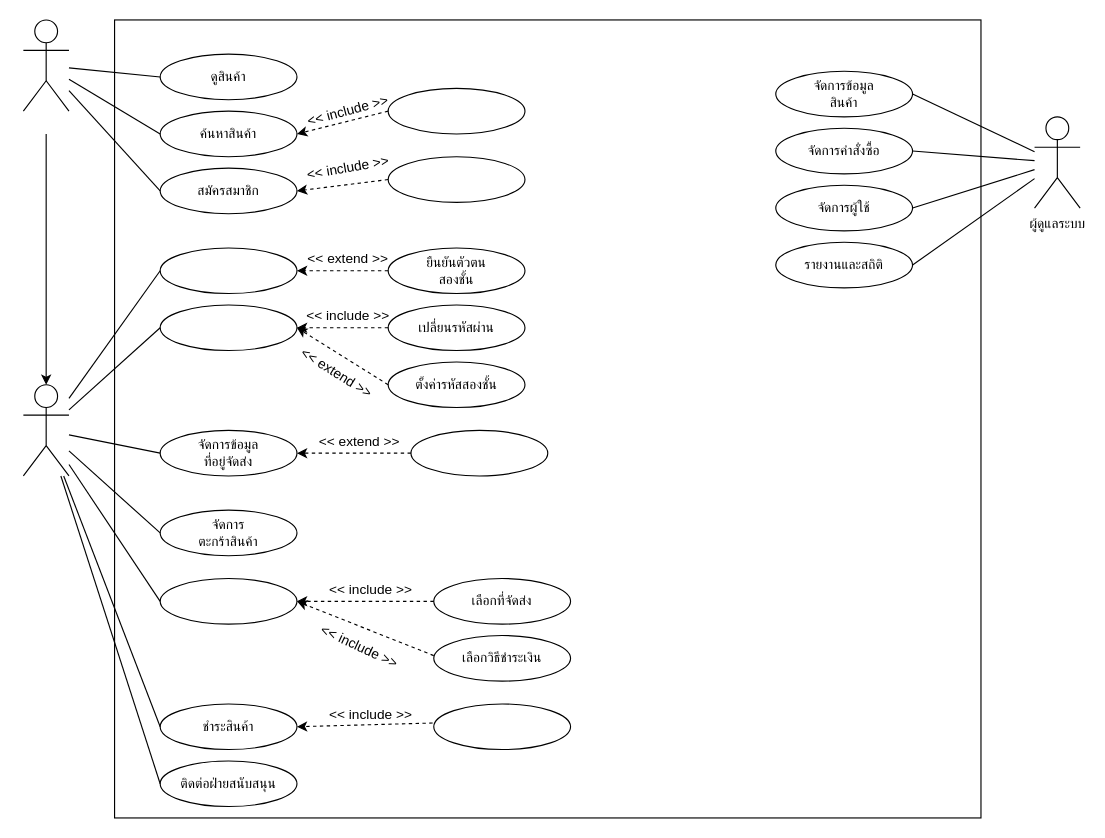
Some shapes in this 1105 by 838 pixel diagram are drawn without their labels. The centre of each missing label's shape, as x and y in pixels:
กรองรายการ สินค้า: the point at 456,110
จัดการข้อมูลผู้ใช้: the point at 228,327
ดูสถานะ การจัดส่ง: the point at 502,726
ผู้ใช้ทั่วไป: the point at 45,65
ผู้ใช้สมาชิก: the point at 45,430
ยืนยันตัวตน: the point at 456,179
สั่งซื้อสินค้า: the point at 228,600
เข้าสู่ระบบ: the point at 228,270
เลือกผ่าน ระบบแผนที่: the point at 479,452
